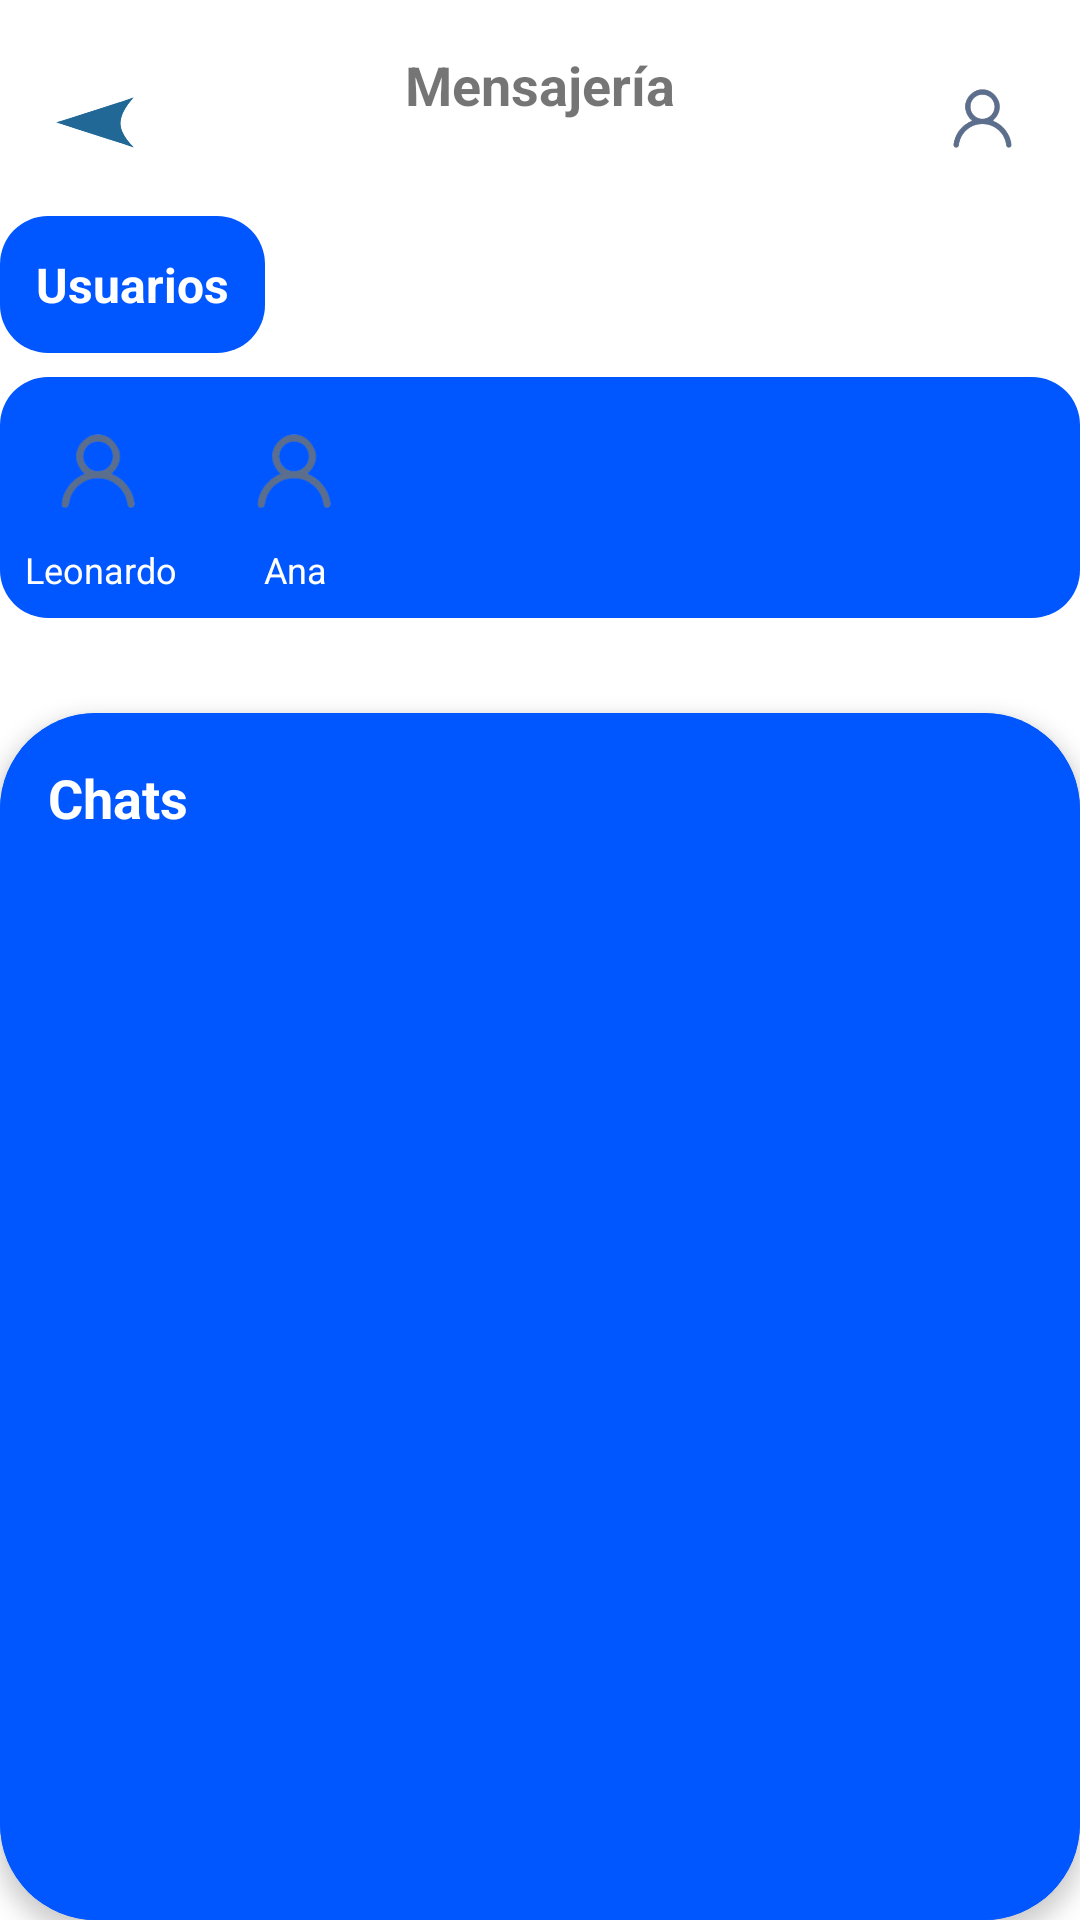

Icon click points for this 1080 × 1920 phone screenshot, format (x,y):
perfil: (982,118), (98,471), (294,471)
